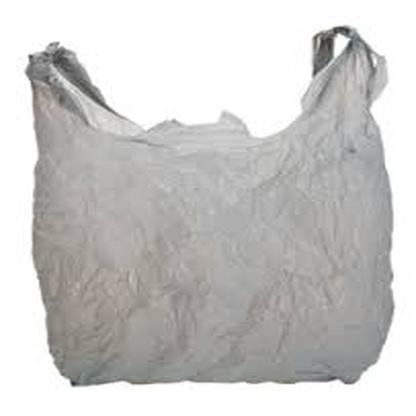plastic bag: (24, 24, 398, 384)
